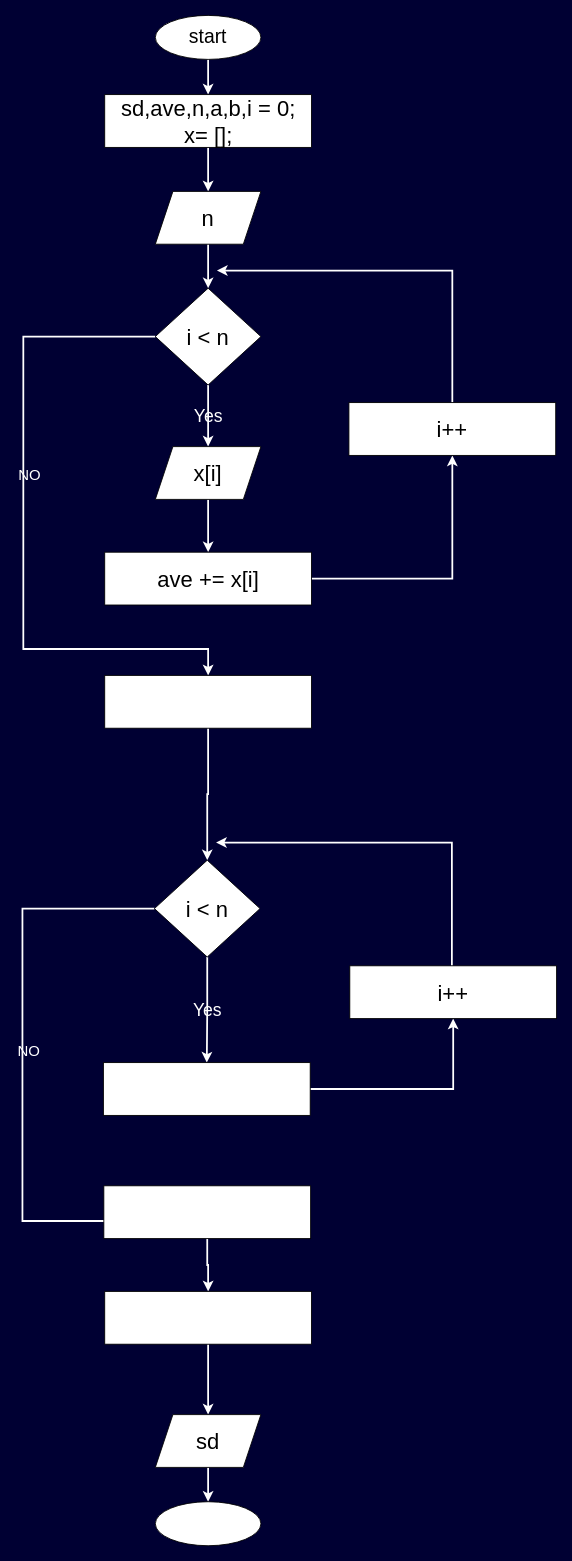
This 572x1561 diagram has some shape labels left out. The shapes that lost their labels are listed below. From the top down, each one's centre as x and y in pixels, then its label:
pixel 208 701: ave = ave / n
pixel 206 1088: a += sqr(x[i] - ave)
pixel 207 1212: b = a /n
pixel 208 1317: sd sqrt(b)
pixel 207 1523: end
